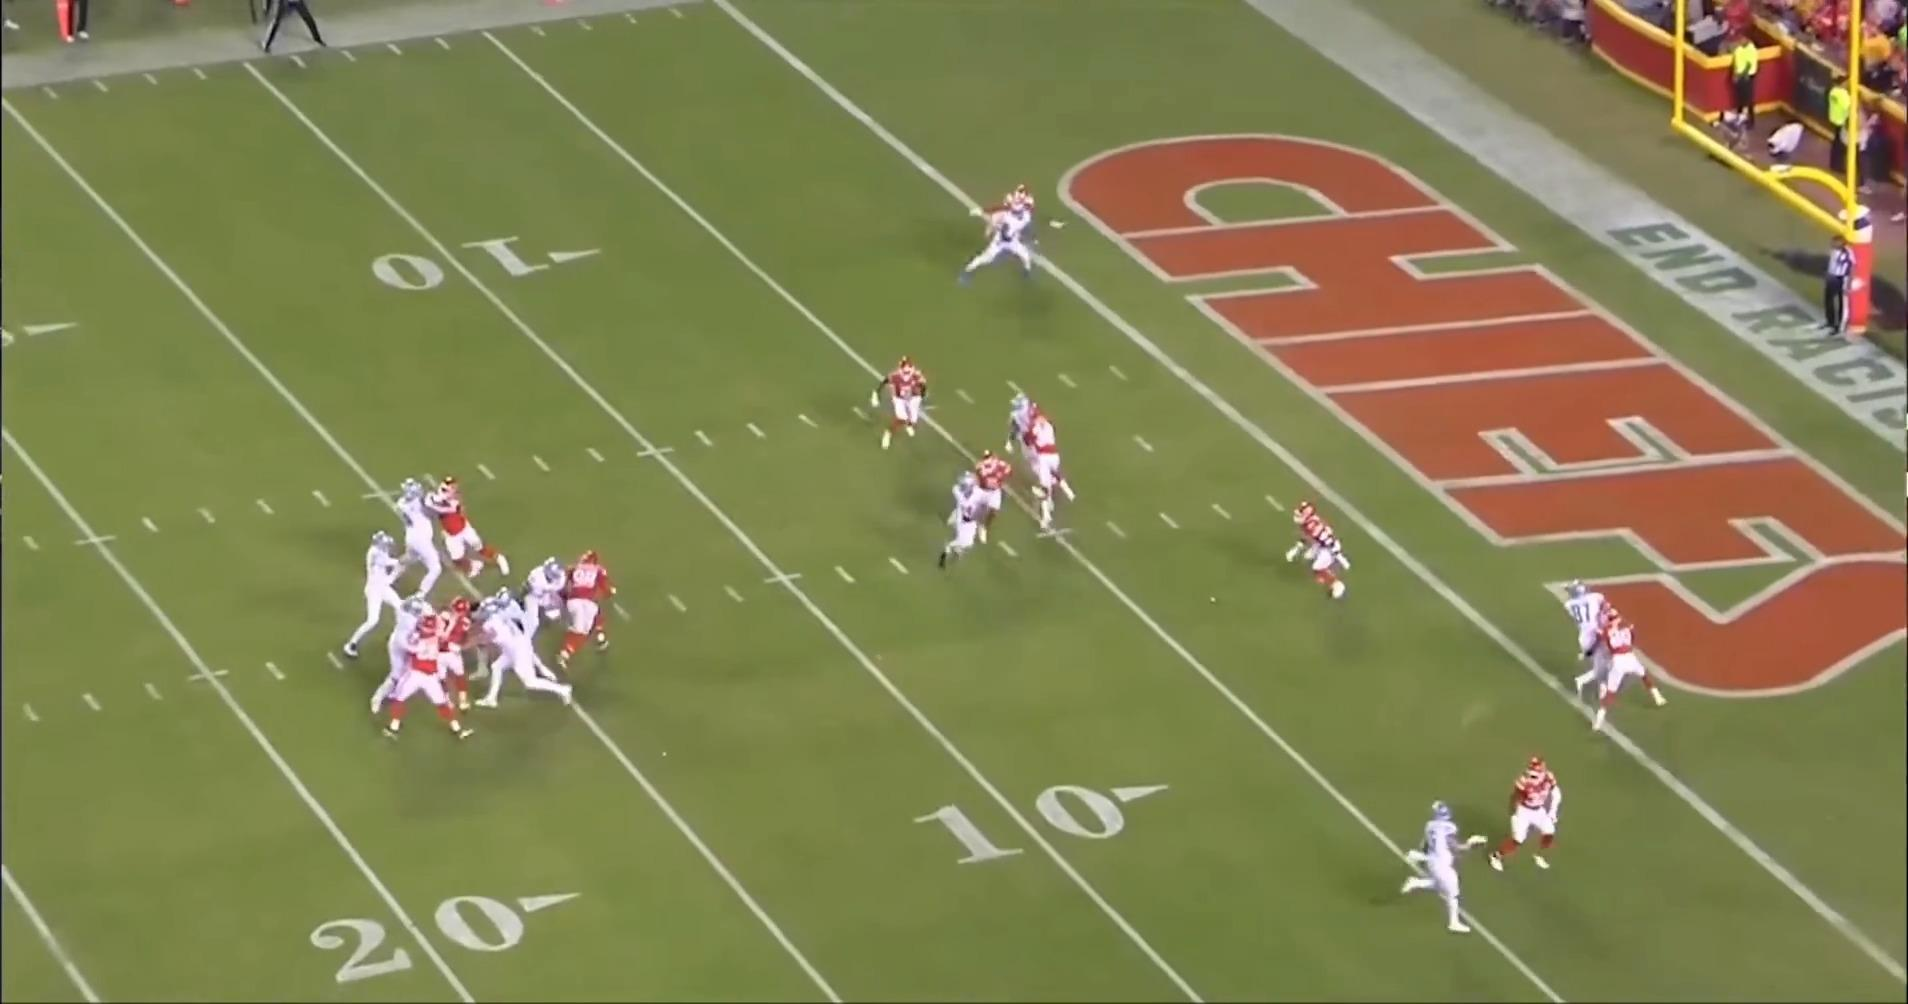player: (467, 591, 574, 716), (372, 609, 469, 742), (1398, 802, 1482, 942), (341, 524, 423, 659), (1585, 604, 1661, 738), (1490, 756, 1570, 880), (419, 473, 508, 579), (469, 585, 561, 683), (374, 591, 439, 715), (954, 199, 1044, 288), (1022, 406, 1082, 538), (558, 548, 617, 672), (941, 466, 1010, 572), (1290, 507, 1357, 611), (863, 352, 930, 452), (392, 479, 448, 597), (1565, 579, 1619, 691), (426, 594, 473, 721), (970, 452, 1020, 551), (967, 182, 1047, 240), (522, 552, 568, 641), (1003, 392, 1051, 477)
ref: (1811, 225, 1860, 345), (252, 0, 330, 54)
